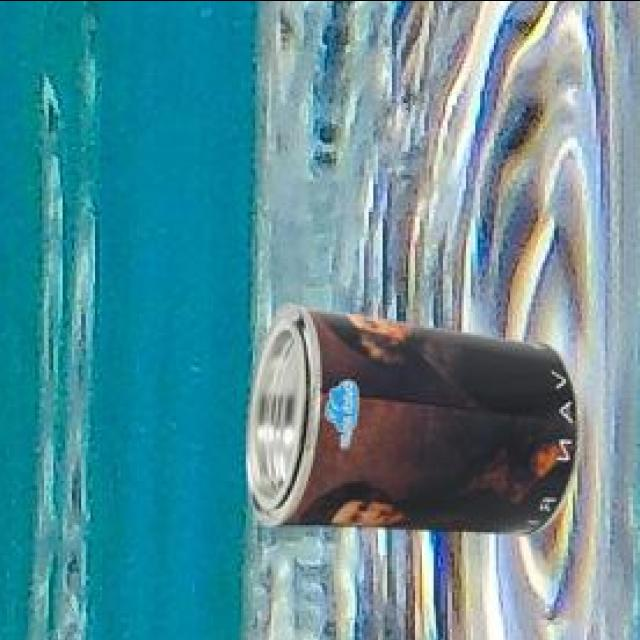logam: (252, 307, 586, 537)
